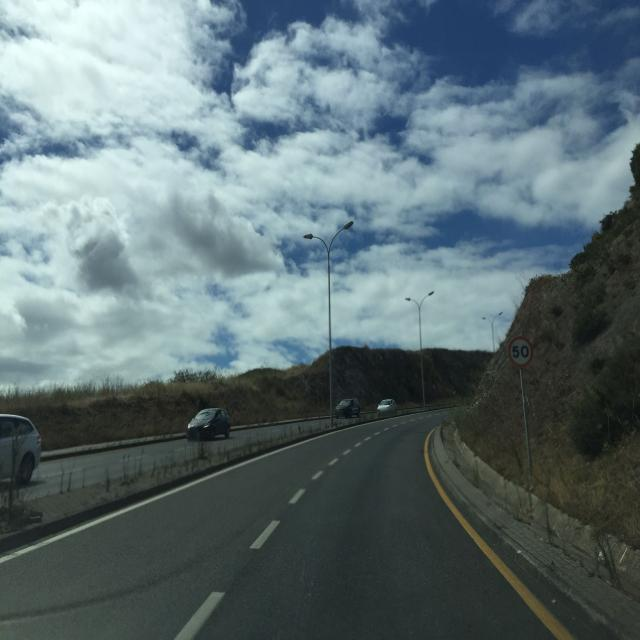car: (0, 413, 42, 491), (187, 407, 230, 442), (334, 397, 360, 418), (376, 398, 398, 417)
